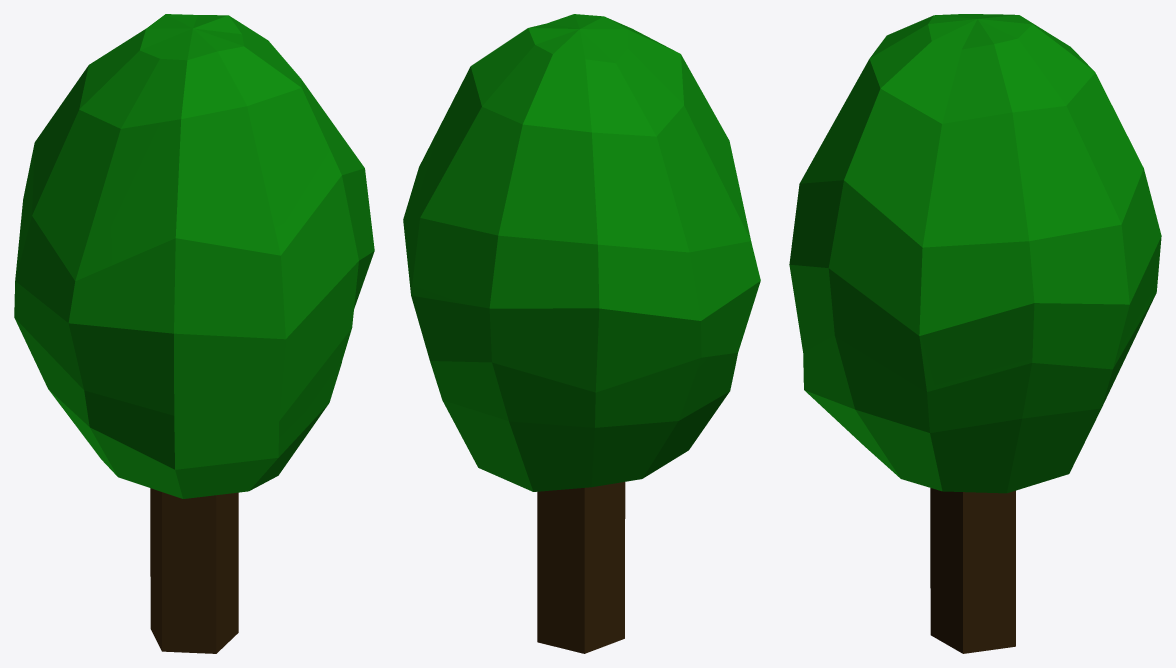
File: Tree2.FBX
3 views of the same model, side by side, from view 1: azimuth 30°, elevation 25°; view 2: azimuth 150°, elevation 25°; view 3: azimuth 270°, elevation 25° (orthographic).
Parts seen in each view (by area): view 1: Tree2_b, Tree2_a; view 2: Tree2_b, Tree2_a; view 3: Tree2_b, Tree2_a.
Part boxes in pixels (x1,y1,x2,y2): Tree2_b: [14, 14, 374, 498]; Tree2_a: [150, 488, 238, 653]; Tree2_b: [403, 14, 760, 491]; Tree2_a: [537, 482, 625, 653]; Tree2_b: [789, 14, 1161, 493]; Tree2_a: [930, 488, 1015, 653].
Size of the model in its own units: 3644 by 6923 by 3790.
